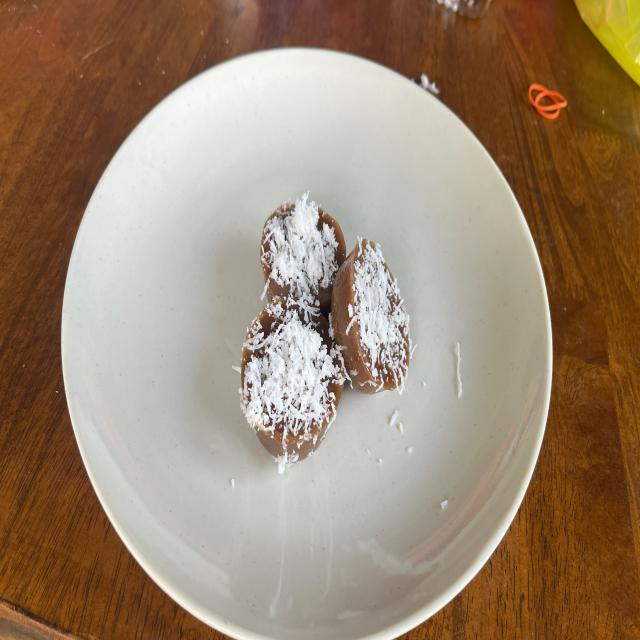Kuih lompang: (241, 298, 345, 464), (331, 238, 411, 393), (261, 193, 346, 316)
